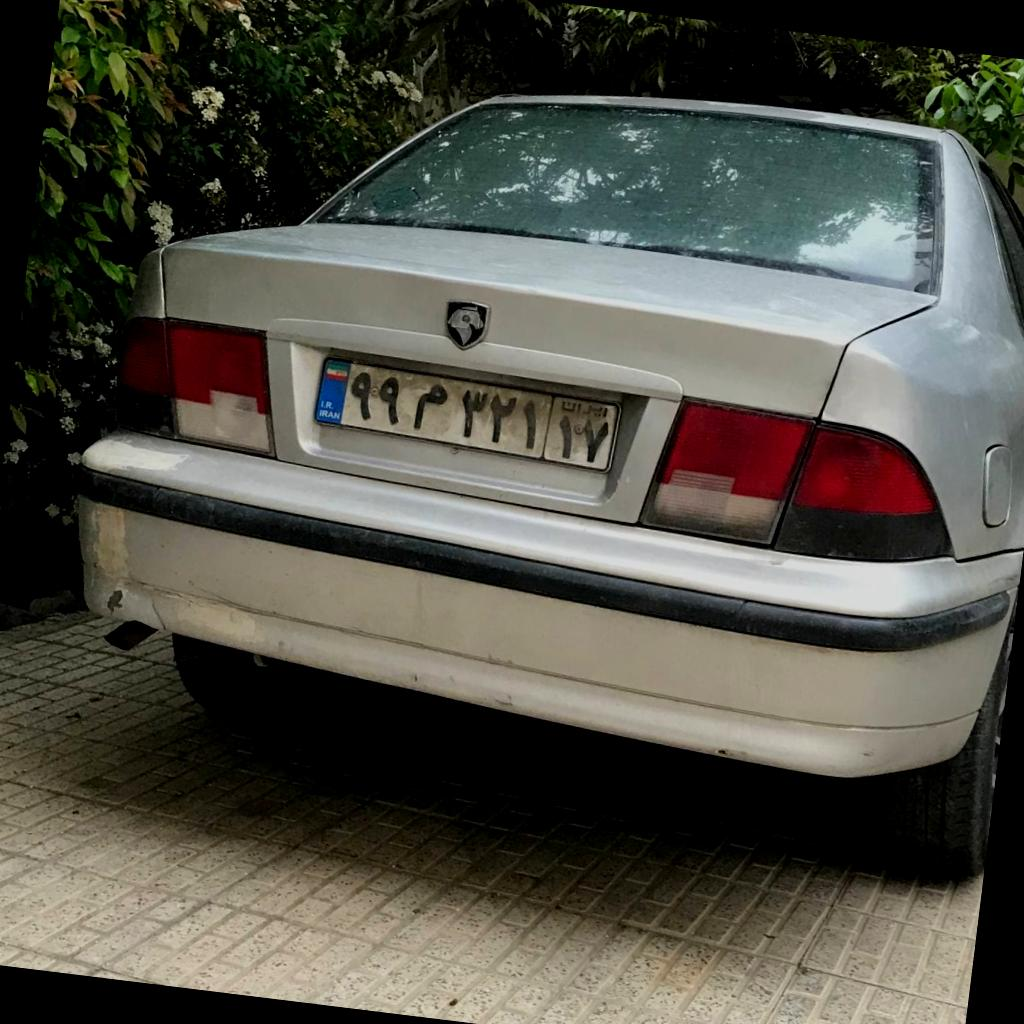Plates: (312, 356, 619, 471)
